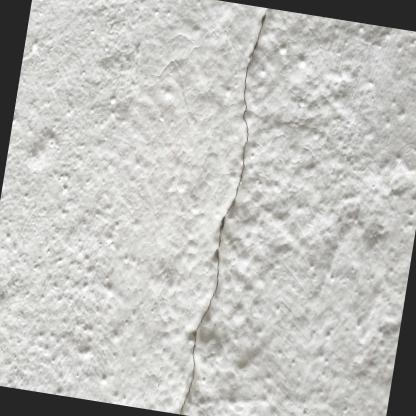crack: (178, 7, 269, 414), (178, 7, 268, 414)
